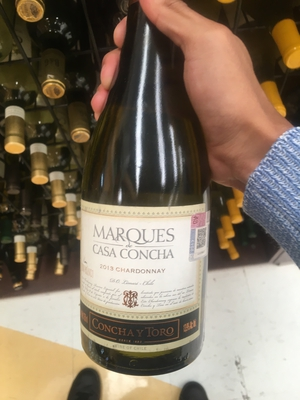marques de casa concha chardonnay: (77, 14, 227, 384)
